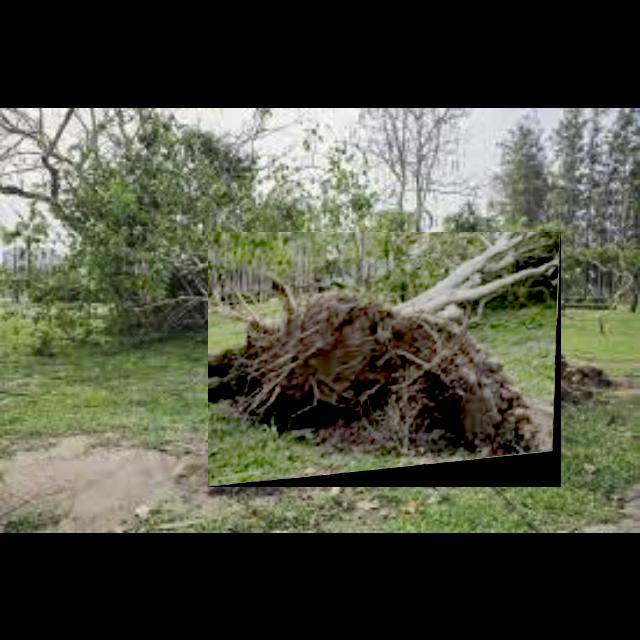Fallen Tree: (208, 232, 562, 488)
